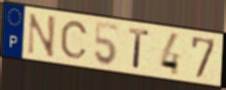4: (157, 31, 184, 78)
5: (94, 19, 121, 68)
7: (189, 35, 218, 80)
C: (59, 20, 89, 61)
N: (25, 12, 57, 60)
T: (127, 26, 150, 71)
